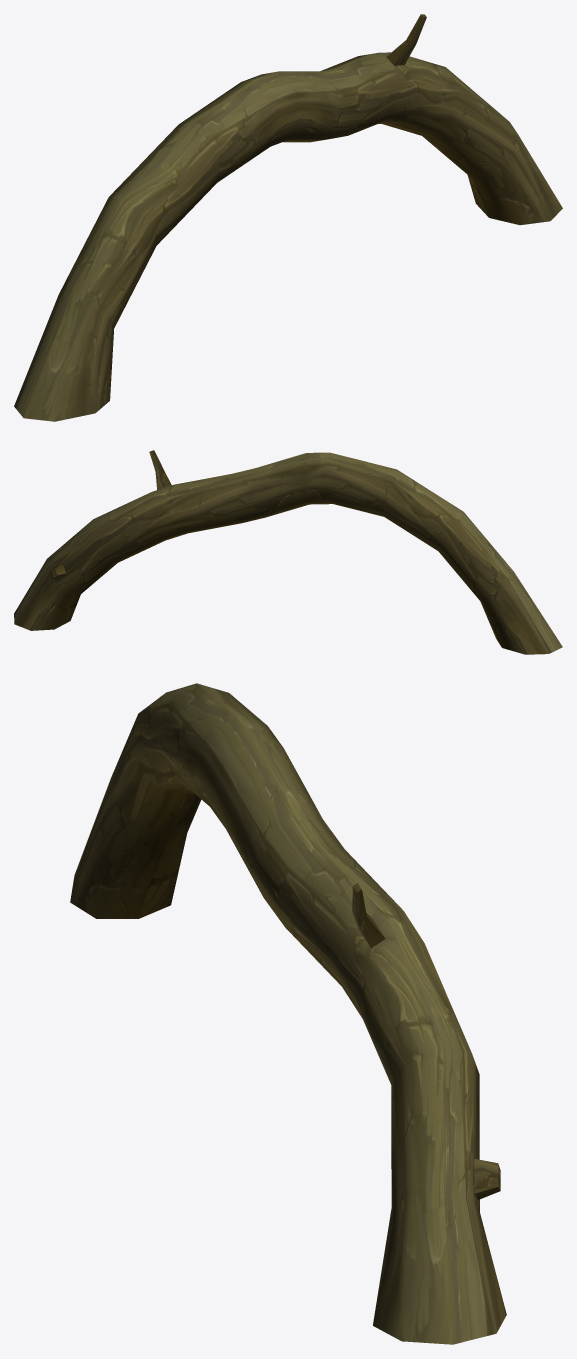
File: Jungle_tree_02.fbx
The picture shows the model from 3 angles, top to bottom: view 1: azimuth 30°, elevation 25°; view 2: azimuth 150°, elevation 25°; view 3: azimuth 270°, elevation 25°; orthographic projection. The views are drawn at different scales.
Parts seen in each view (by area): view 1: Jungle_tree_02; view 2: Jungle_tree_02; view 3: Jungle_tree_02.
Part boxes in pixels (x1=…): Jungle_tree_02: x1=14, y1=14, x2=562, y2=421; Jungle_tree_02: x1=14, y1=450, x2=562, y2=654; Jungle_tree_02: x1=70, y1=683, x2=506, y2=1344.
Size of the model in its own units: 728 by 279 by 298.
